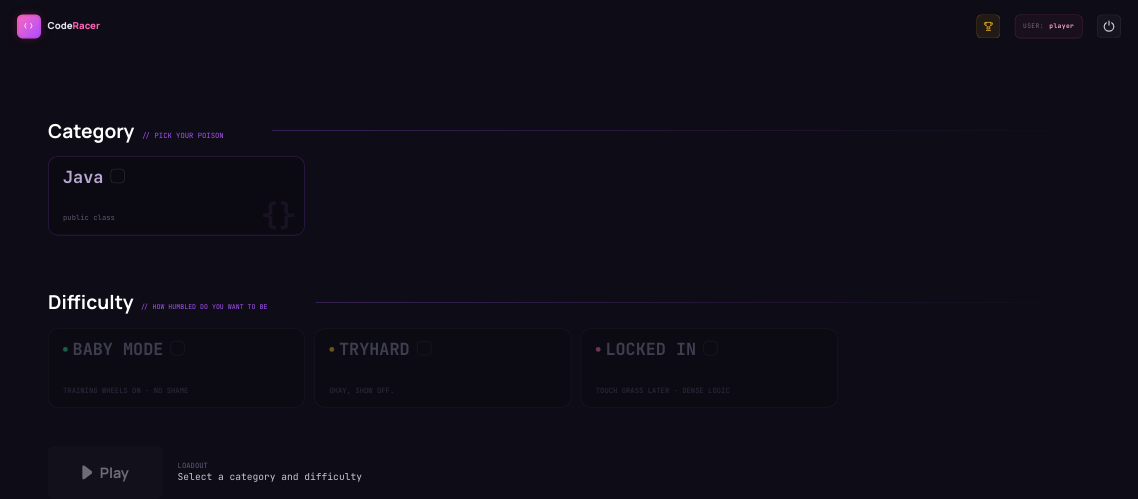
SoloSetupPage › marks the chosen category as pressed and enables difficulty
Click the button "Java public class" at (176, 196), box 48,156 -> 305,235
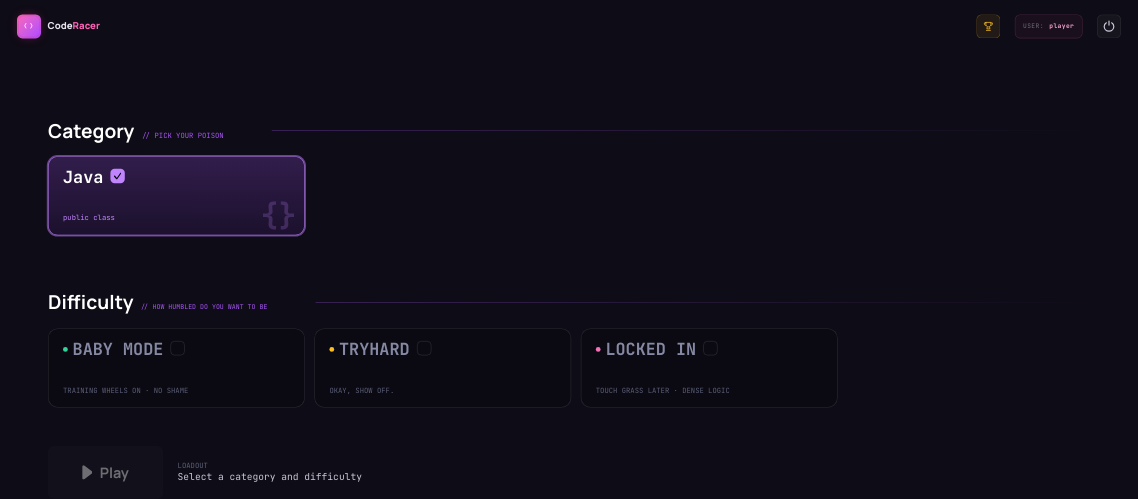
Expected: the button "BABY MODE TRAINING WHEELS ON · NO SHAME" is enabled, 48,328 -> 305,407
